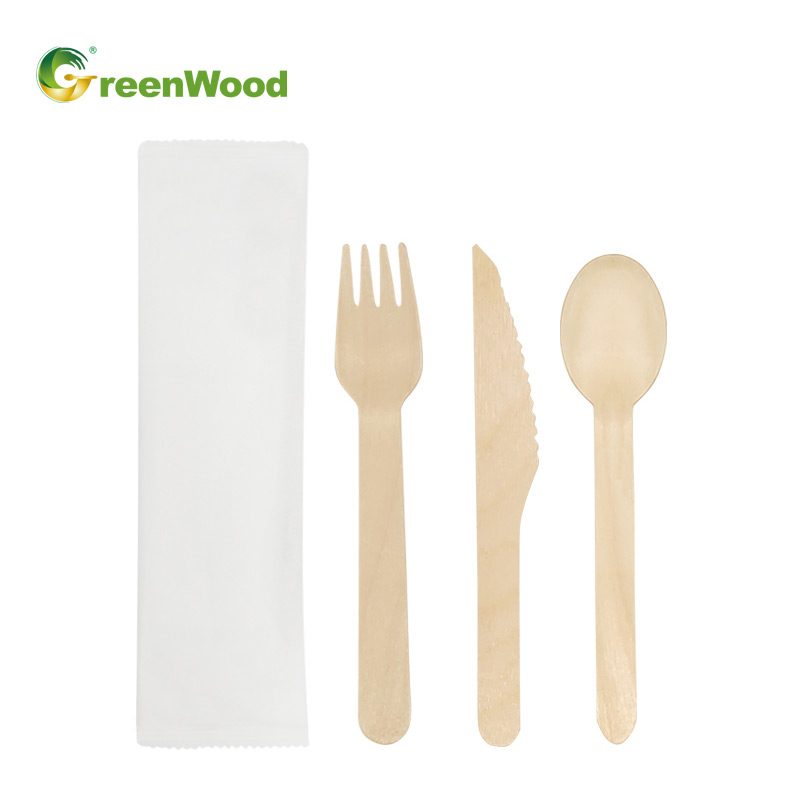Wooden Utensils: (324, 239, 683, 751)
